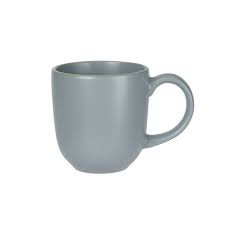mug: (39, 47, 205, 185)
